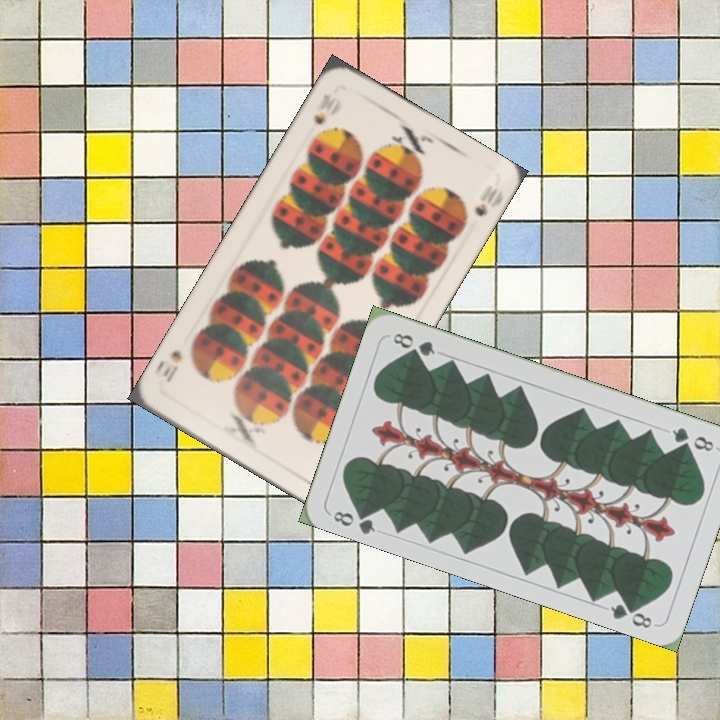G8: (329, 503, 378, 537), (668, 423, 717, 454)
S10: (309, 89, 335, 128)
